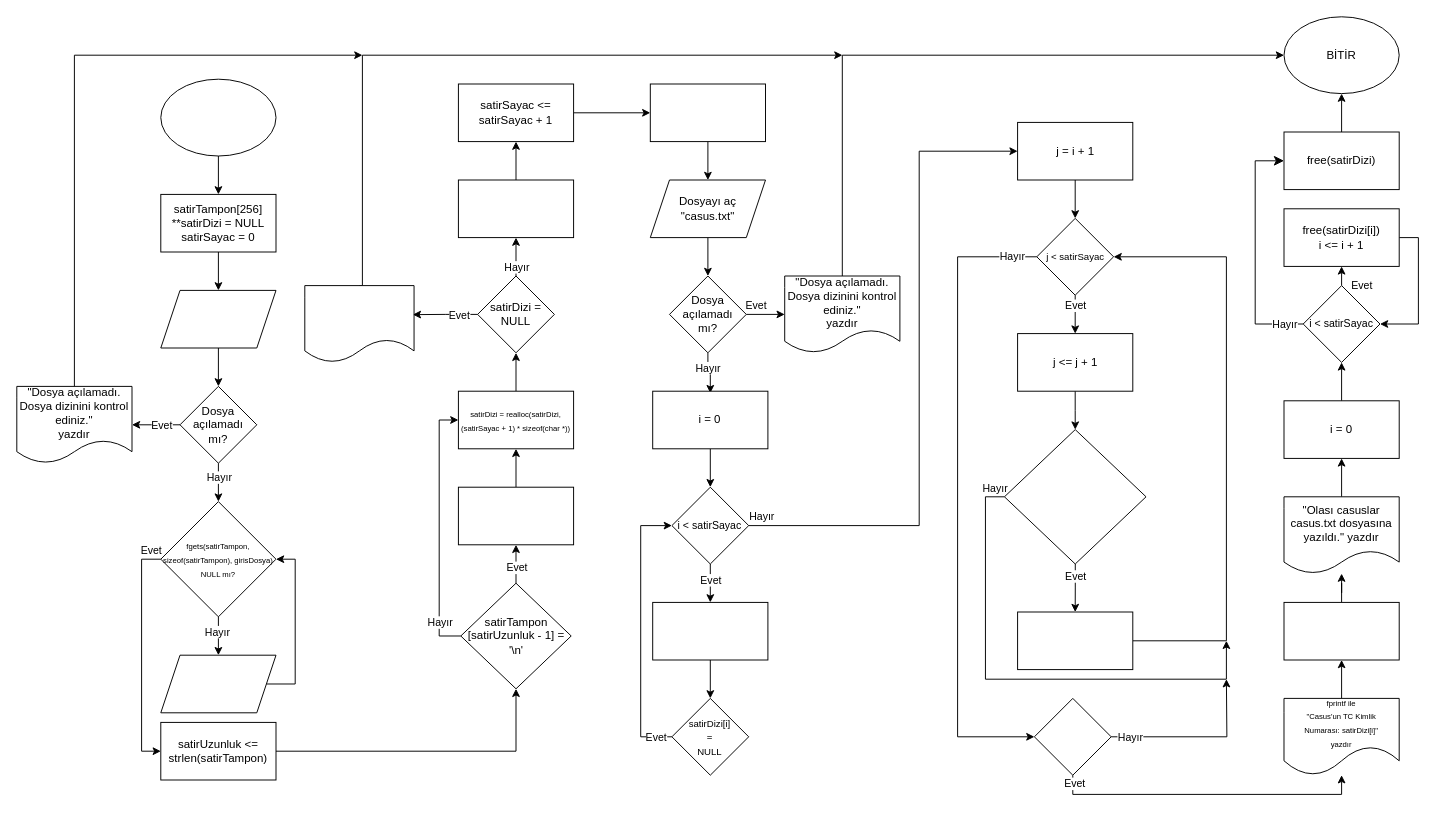
The diagram is 1443 pixels wide and 819 high, and some of its shapes have lost their labels. Here are the shapes that lost their labels. From the top down, the centre of each, then its label:
the point at 218,117: BAŞLA
the point at 707,112: fclose(giris.txt) ile "giris.txt" dosyasını kapat
the point at 515,208: satirDizi[satirSayac] <= strdup(satirTampon)
the point at 218,318: Dosyayı aç ("giris.txt")
the point at 359,323: "Bellek ayırma hatası." yazdır
the point at 515,515: satirTampon [satirUzunluk - 1] <= '\0'
the point at 1074,496: satirDizi[j] != NULL && strcmp(satirDizi[i], satirDizi[j] = 0
the point at 710,630: i <= i + 1 k = 1
the point at 1075,640: k <= k + 1 satirDizi[j] <= NULL
the point at 1341,630: fclose(casusDosya) ile "casus.txt" dosyasını kapat
the point at 218,683: Satırı işle
the point at 1072,736: k > 1
